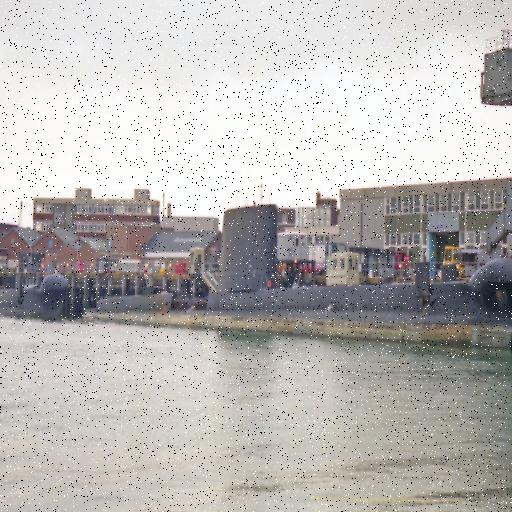submarine: (113, 195, 512, 347), (1, 275, 66, 321)
